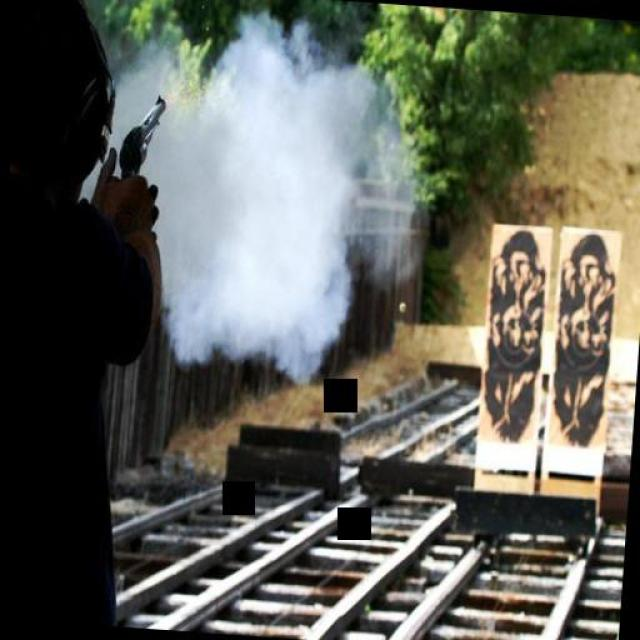gun: (115, 89, 169, 188)
